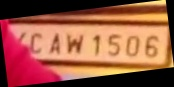character: (125, 34, 140, 58), (143, 34, 158, 57), (66, 34, 84, 53), (107, 32, 120, 56), (48, 32, 60, 54), (91, 34, 100, 56)
